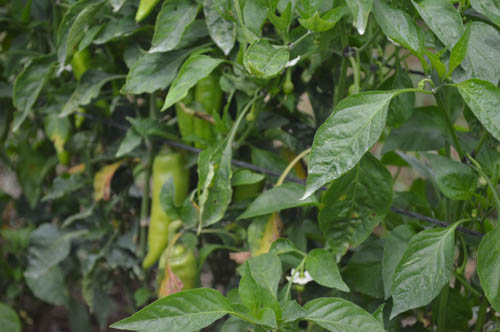ChiliPepper: (141, 156, 187, 264), (191, 78, 223, 144), (159, 254, 204, 289)
